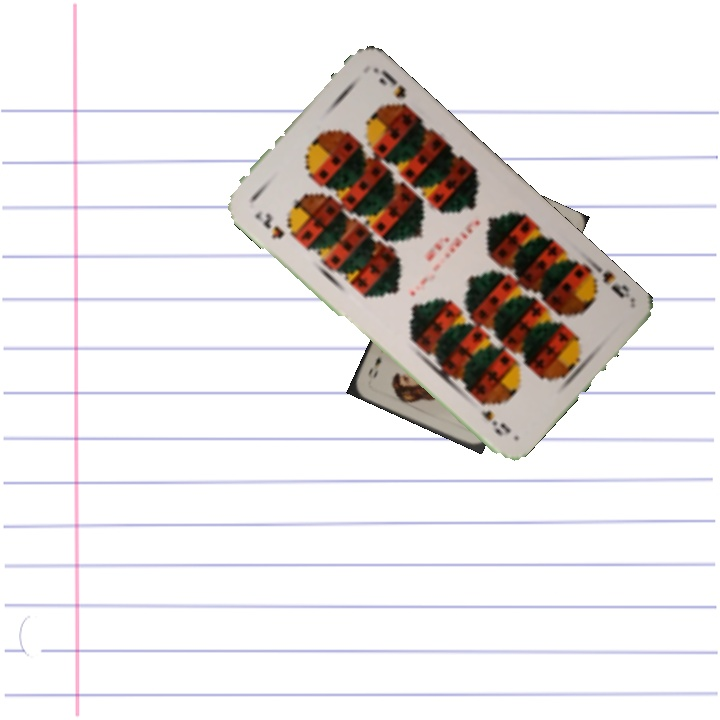S9: (581, 257, 633, 301), (250, 207, 288, 242)
